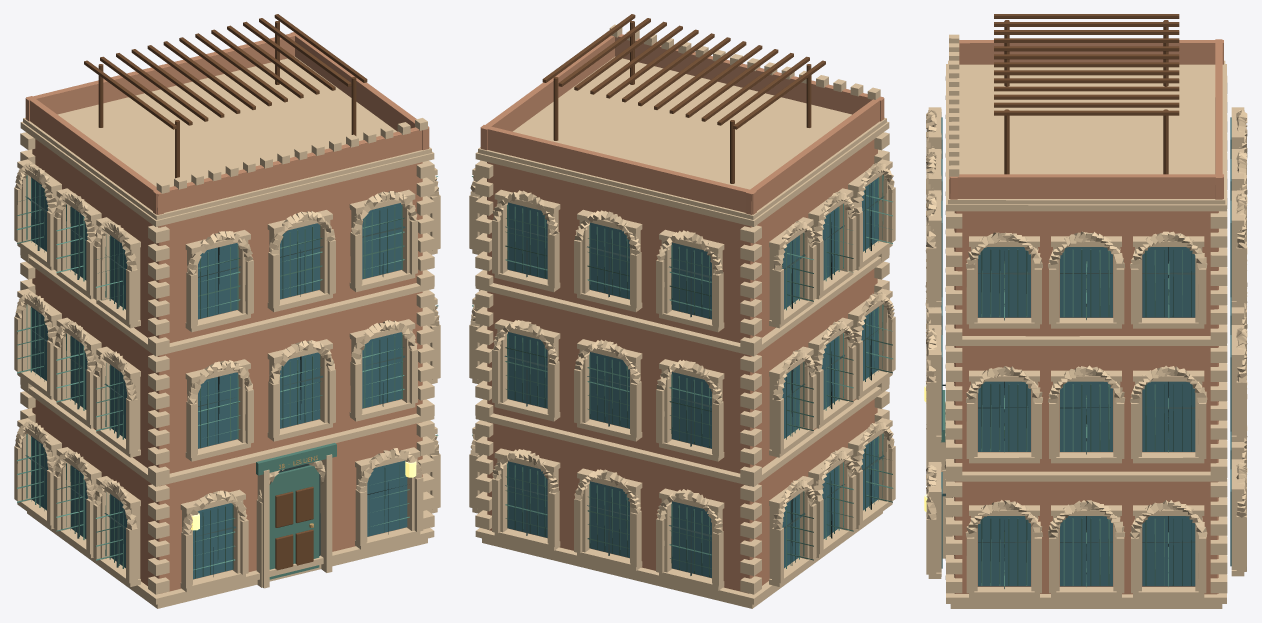
The model's file is maroc-3-lod.glb.
3 renders of one model, left to right at view 1: azimuth 30°, elevation 25°; view 2: azimuth 150°, elevation 25°; view 3: azimuth 270°, elevation 25°, orthographic. The views are drawn at different scales.
Visible parts, largest first — view 1: maroc-3_Dressed stone.001, maroc-3_Masonry plaster.001, maroc-3_Window blue.001, maroc-3_Regional painted wood.001, maroc-3_Walnut.001, maroc-3_Forged midnight.001; view 2: maroc-3_Dressed stone.001, maroc-3_Masonry plaster.001, maroc-3_Window blue.001, maroc-3_Regional painted wood.001, maroc-3_Walnut.001, maroc-3_Forged midnight.001; view 3: maroc-3_Dressed stone.001, maroc-3_Masonry plaster.001, maroc-3_Window blue.001, maroc-3_Walnut.001, maroc-3_Regional painted wood.001, maroc-3_Forged midnight.001.
Part boxes in pixels (bbox=[...]): maroc-3_Dressed stone.001: bbox=[14, 56, 440, 608]; maroc-3_Masonry plaster.001: bbox=[25, 32, 429, 593]; maroc-3_Window blue.001: bbox=[31, 177, 407, 579]; maroc-3_Regional painted wood.001: bbox=[17, 175, 438, 579]; maroc-3_Walnut.001: bbox=[84, 14, 367, 570]; maroc-3_Forged midnight.001: bbox=[25, 183, 405, 576]; maroc-3_Dressed stone.001: bbox=[469, 24, 895, 608]; maroc-3_Masonry plaster.001: bbox=[480, 34, 884, 593]; maroc-3_Window blue.001: bbox=[508, 177, 878, 577]; maroc-3_Regional painted wood.001: bbox=[472, 175, 893, 577]; maroc-3_Walnut.001: bbox=[542, 14, 825, 183]; maroc-3_Forged midnight.001: bbox=[504, 183, 884, 575]; maroc-3_Dressed stone.001: bbox=[925, 34, 1247, 608]; maroc-3_Masonry plaster.001: bbox=[949, 39, 1223, 594]; maroc-3_Window blue.001: bbox=[941, 117, 1231, 586]; maroc-3_Walnut.001: bbox=[994, 14, 1179, 174]; maroc-3_Regional painted wood.001: bbox=[941, 249, 1191, 586]; maroc-3_Forged midnight.001: bbox=[942, 247, 1195, 588].
Size of the model in its own units: 15.5 by 19.86 by 12.2.
